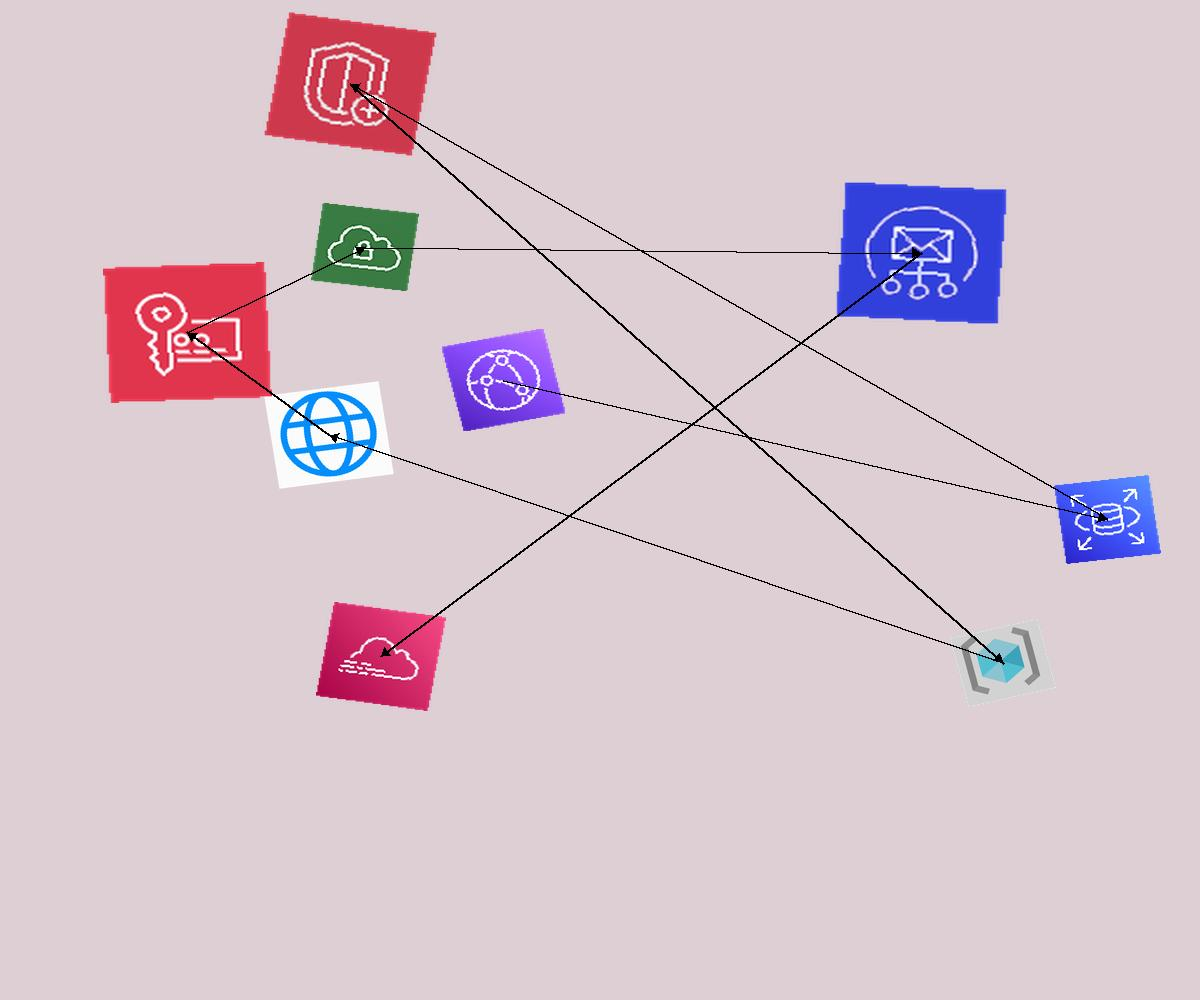AWS-CloudFront: (441, 328, 566, 432)
AWS-CloudTrail: (316, 602, 446, 711)
AWS-Key-Management-Service: (103, 262, 272, 403)
AWS-Private_vpc: (311, 202, 419, 292)
AWS-RDS: (1054, 475, 1161, 564)
AWS-Shield: (263, 11, 438, 157)
AWS-Simple-Email-Service: (835, 181, 1008, 325)
Azure_http: (264, 381, 394, 489)
Azure_resource_group: (949, 618, 1057, 708)
